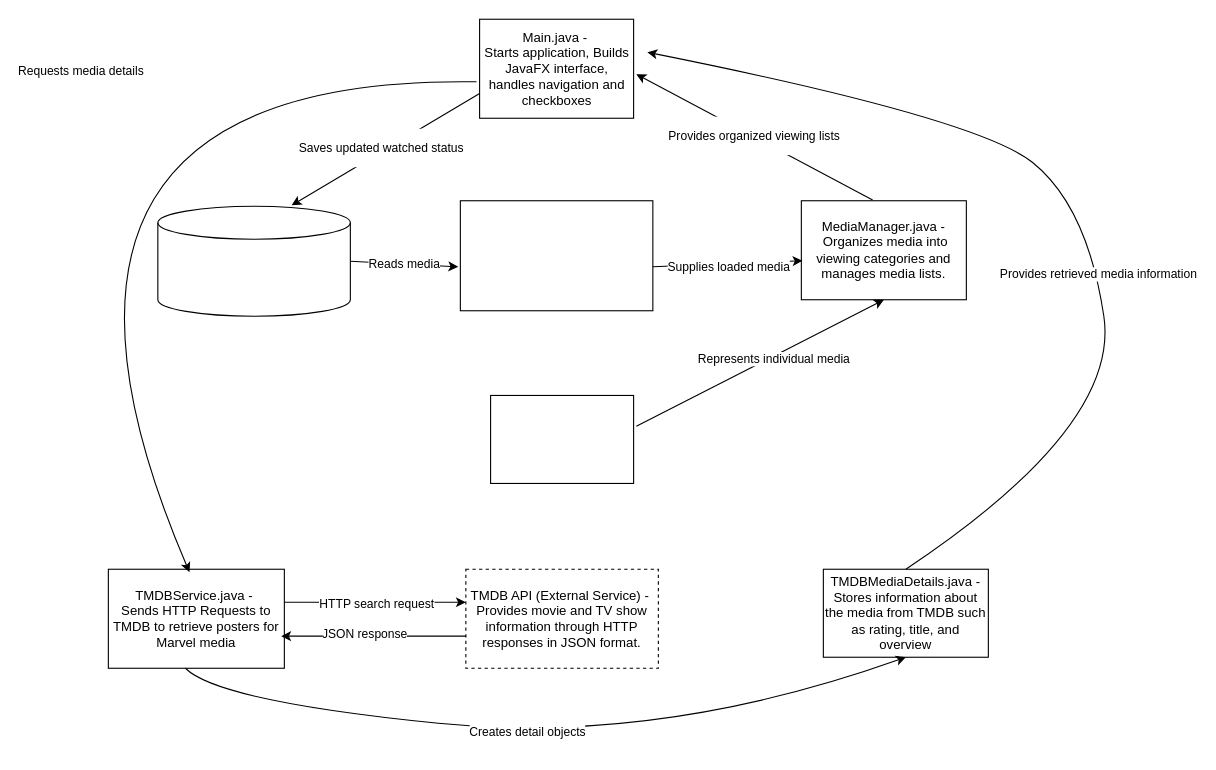
This 1216x770 diagram has some shape labels left out. The box of each missing label's shape, as (x1, y1, x2, y2) in pixels:
data/marvel_media.csv - Stores data about various Marvel media in CSV file: (157, 205, 350, 316)
Media.java - Represents an individual movie or TV show.: (490, 394, 634, 483)
MediaDataLoader.java - Reads Marvel media records from CSV file: (459, 200, 653, 311)
